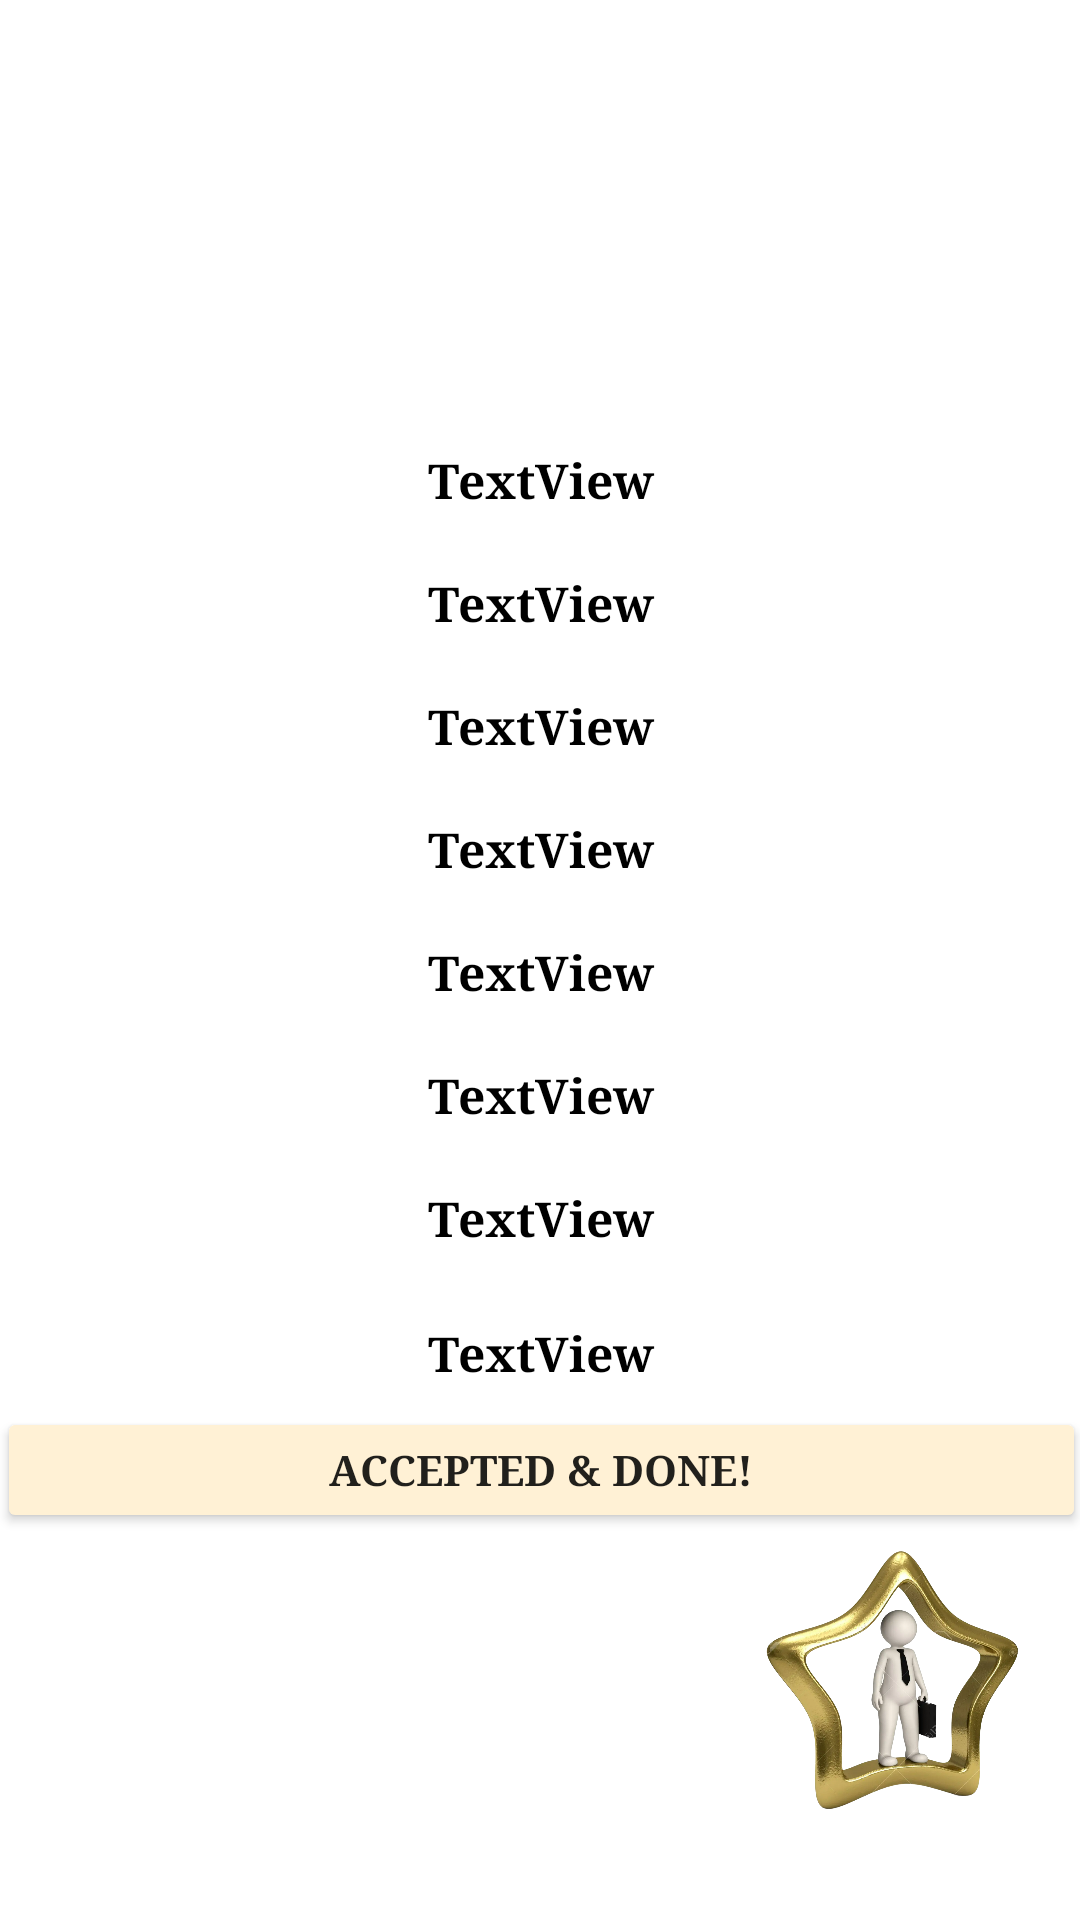

Point at icon controls on the screen. Image size 1080 x 1920, points as (x,y).
man: (892,1680)
